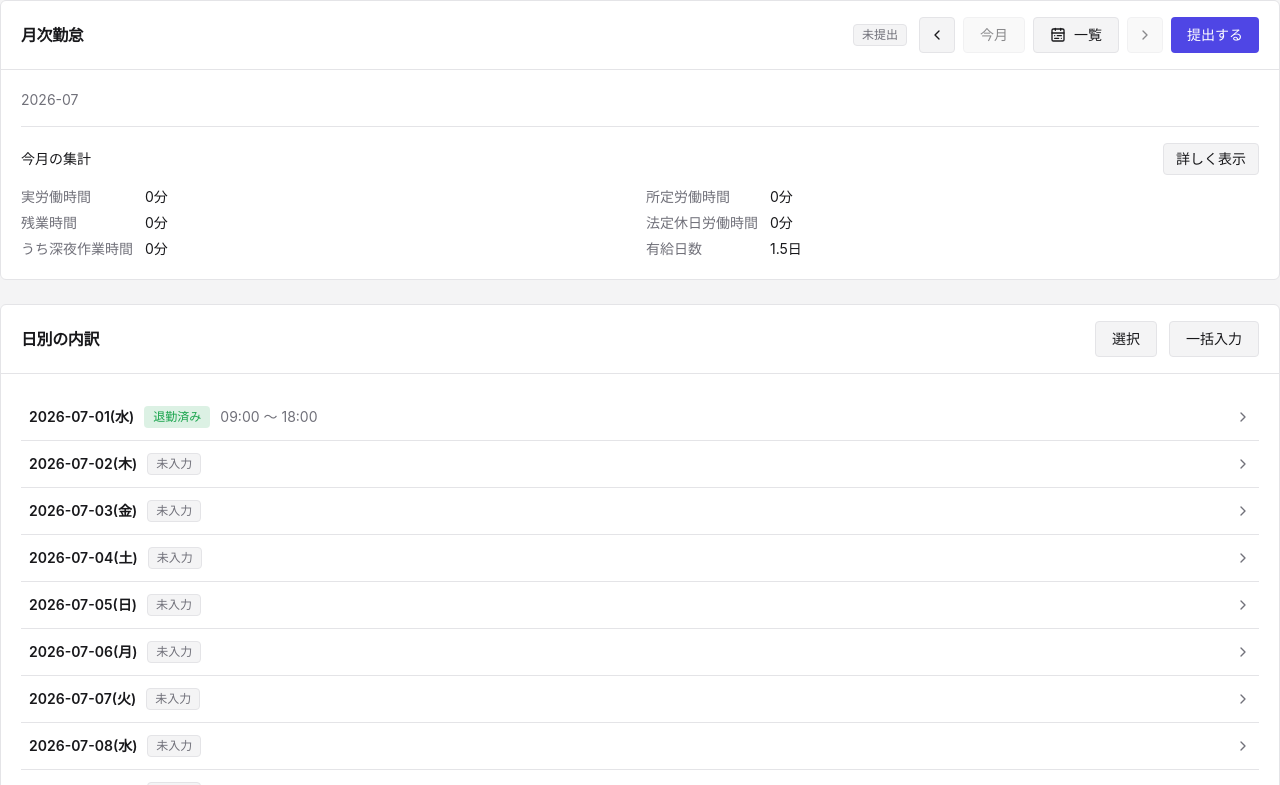
Test case: AttendanceMonthDetailPage › shows the monthly absence and paid-leave summary (欠勤日数・有給日数・有給時間・特別休暇時間)
The image size is (1280, 785).
Expected: the heading "今月の集計" is shown, [21,149,91,169]
Click the button "詳しく表示" at (1211, 159), box [1163,143,1259,175]
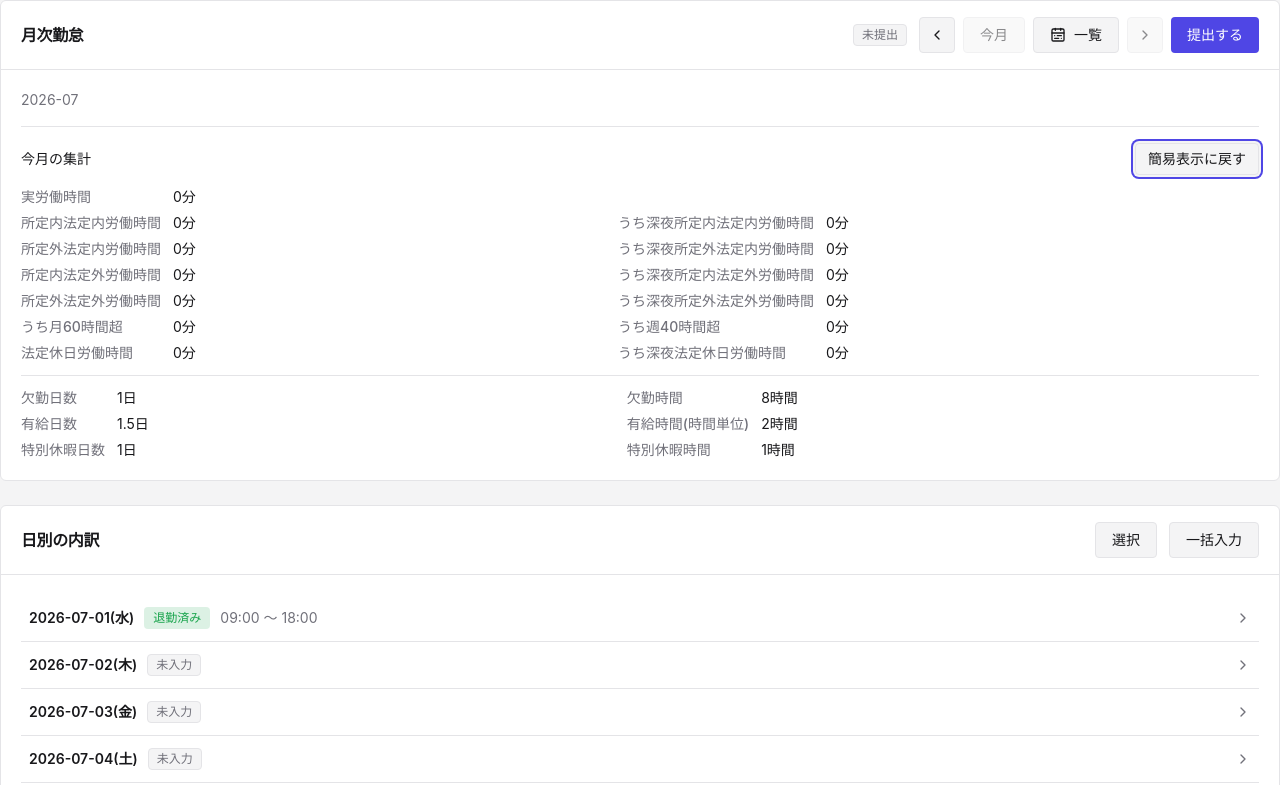
Expected: the text "欠勤日数" is shown, [21,389,77,406]
Expected: the text "欠勤時間" is shown, [627,389,683,406]
Expected: the text "有給時間(時間単位)" is shown, [627,414,749,434]
